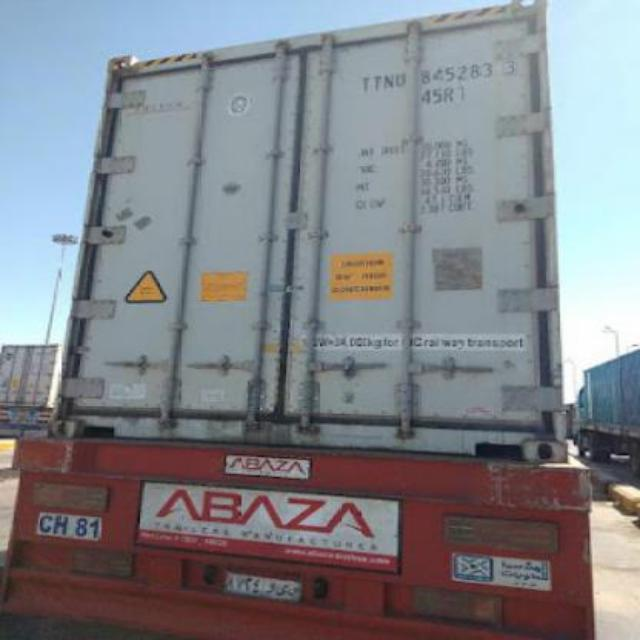2: (456, 64, 468, 84)
3: (482, 62, 498, 80), (502, 60, 518, 76)
4: (432, 68, 446, 82)
5: (444, 66, 456, 84)
8: (420, 69, 432, 87), (472, 64, 482, 82)
N: (384, 73, 394, 91)
T: (360, 75, 372, 93), (372, 75, 384, 93)
U: (394, 70, 408, 90)
